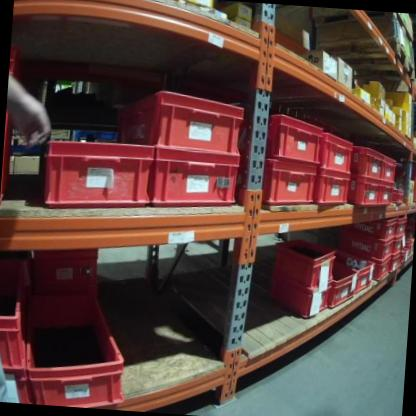pallet: (304, 31, 416, 90), (306, 10, 416, 44)
small_load_carrier: (24, 283, 133, 408), (42, 138, 157, 216), (113, 86, 246, 152), (151, 148, 241, 212), (236, 153, 321, 205), (244, 110, 322, 164), (269, 233, 338, 288), (266, 272, 329, 323), (37, 244, 101, 288), (0, 294, 29, 379), (314, 161, 351, 210), (342, 213, 398, 245), (313, 134, 357, 173), (341, 230, 393, 262), (7, 345, 35, 403), (337, 252, 376, 293), (345, 147, 388, 181), (331, 262, 358, 313), (342, 254, 392, 280), (348, 174, 382, 211), (396, 160, 416, 211), (2, 254, 33, 283), (379, 155, 398, 185), (379, 178, 398, 204), (392, 244, 405, 272), (396, 214, 411, 238), (394, 229, 406, 254), (404, 233, 414, 260), (394, 184, 404, 209)
